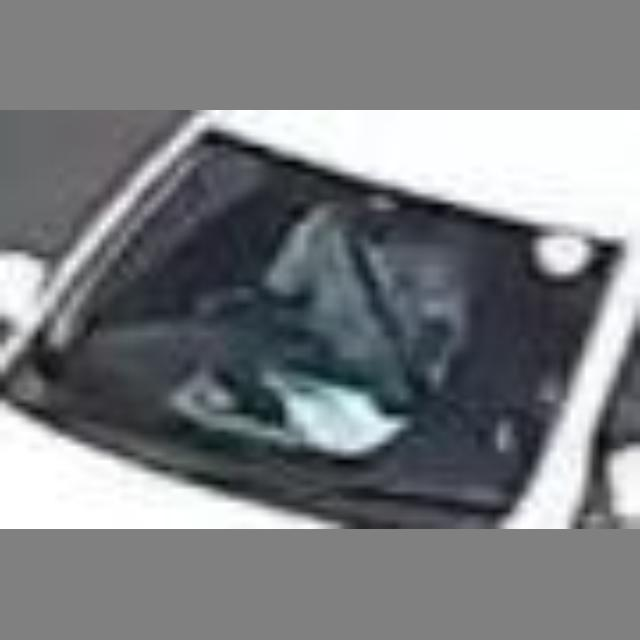pakai: (228, 202, 548, 430)
